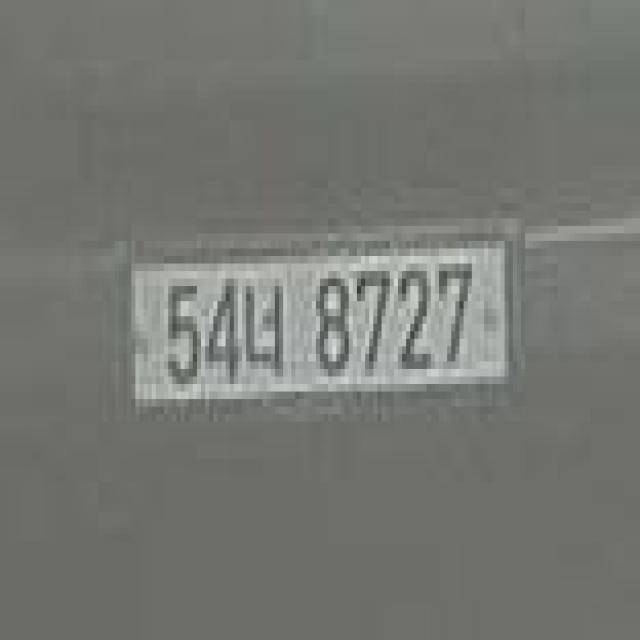2: (395, 264, 431, 374)
4: (206, 277, 244, 387)
5: (164, 284, 201, 384)
7: (430, 258, 474, 365), (356, 265, 393, 373)
8: (310, 264, 353, 381)
license_plate: (123, 223, 524, 406)
neo: (246, 277, 288, 380)
